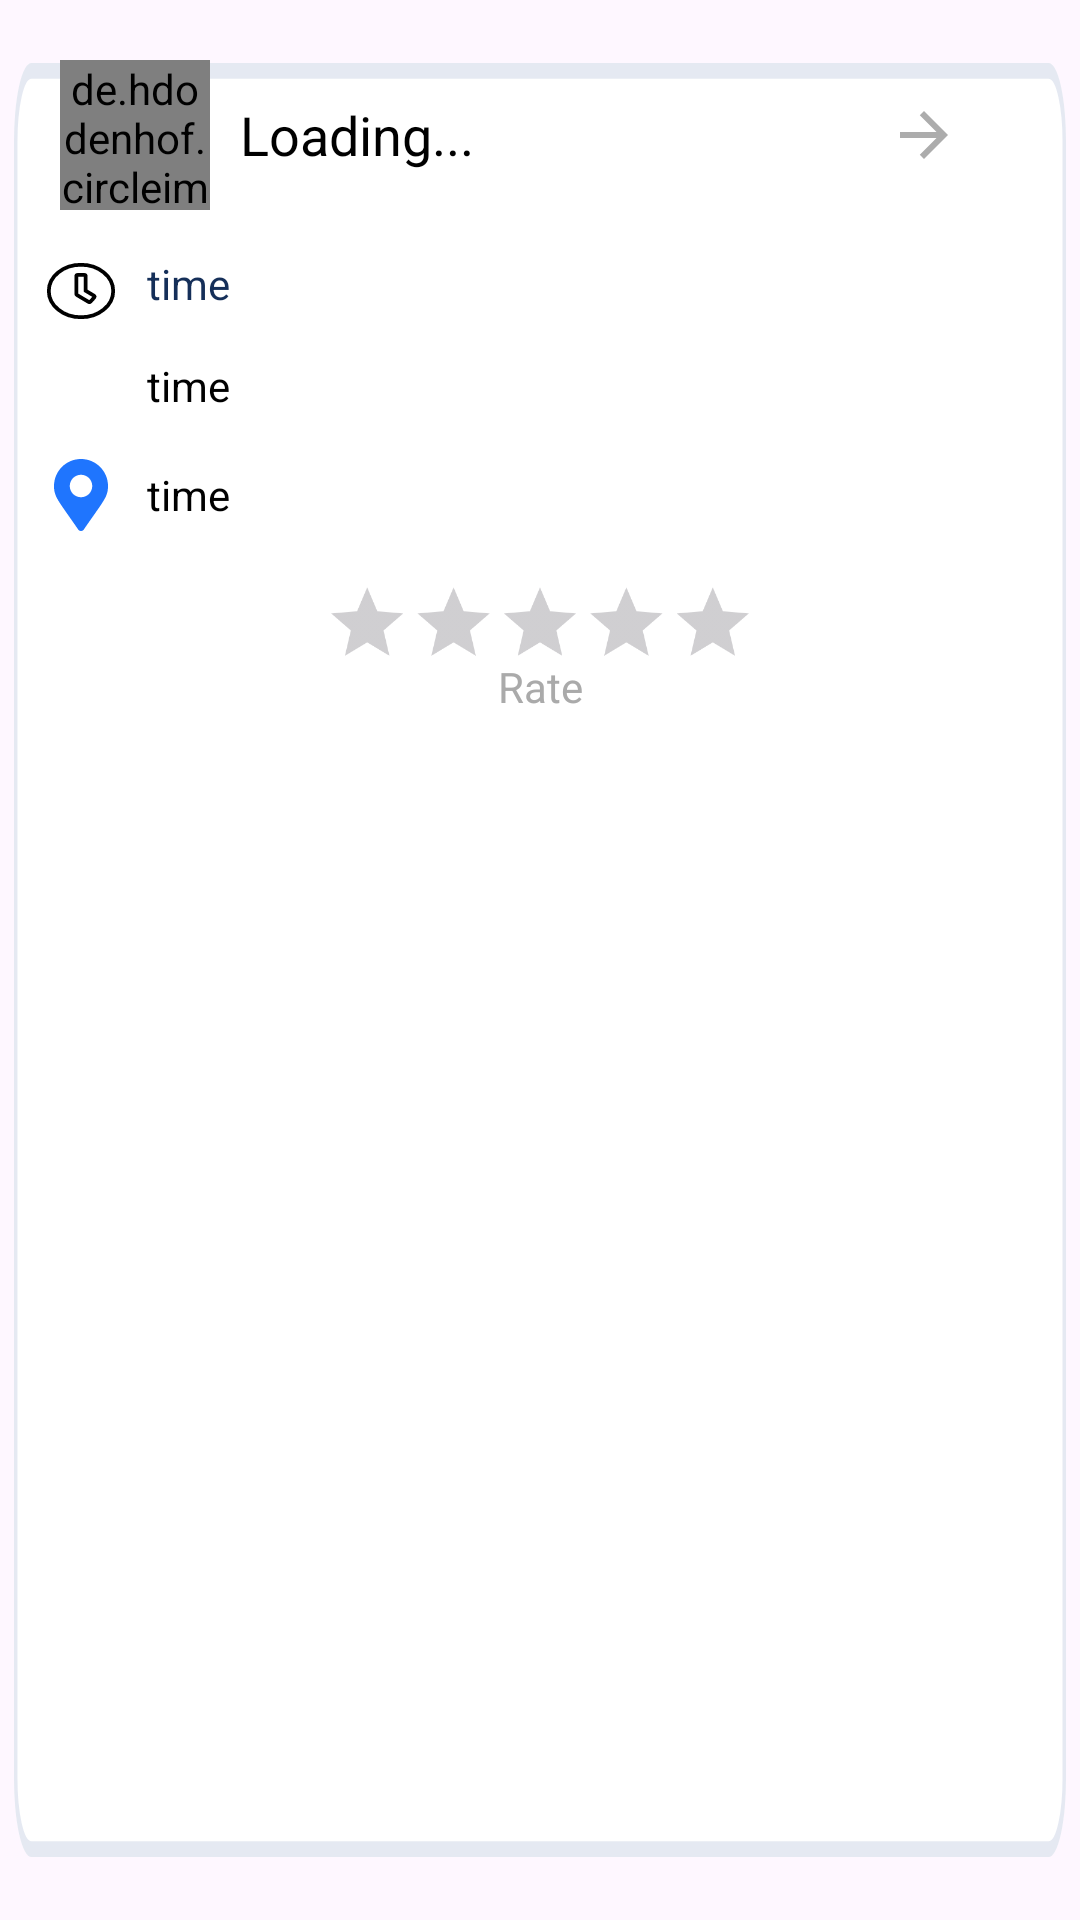

Screen size 1080×1920. Icon name, then its box in pixels as (x1, y1, x2, y2):
arrow right: (900, 111, 948, 159)
destination: (54, 459, 108, 531)
